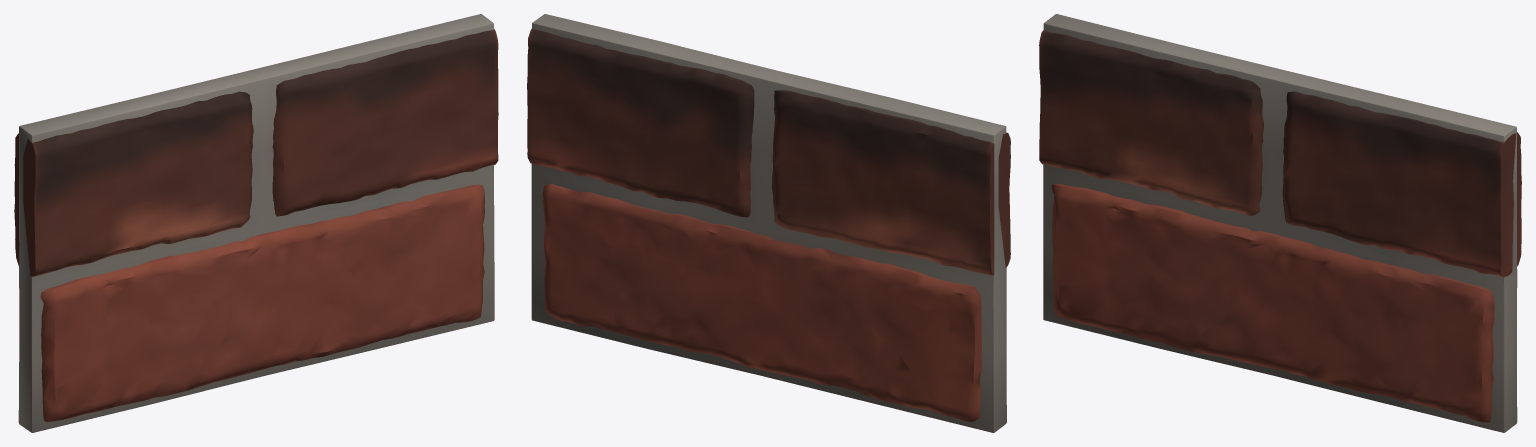
File: ember_brick_wall_b.glb
The picture shows the model from 3 angles, left to right: view 1: azimuth 30°, elevation 25°; view 2: azimuth 150°, elevation 25°; view 3: azimuth 330°, elevation 25°; orthographic projection.
Parts seen in each view (by area): view 1: ember_brick_wall_b; view 2: ember_brick_wall_b; view 3: ember_brick_wall_b.
Boxes of the visible parts, <box> form: ember_brick_wall_b: <box>14,14,498,432</box>; ember_brick_wall_b: <box>527,14,1010,432</box>; ember_brick_wall_b: <box>1039,14,1521,432</box>.
Bounding box in the file's own units: 65.12 × 40.16 × 5.77.
